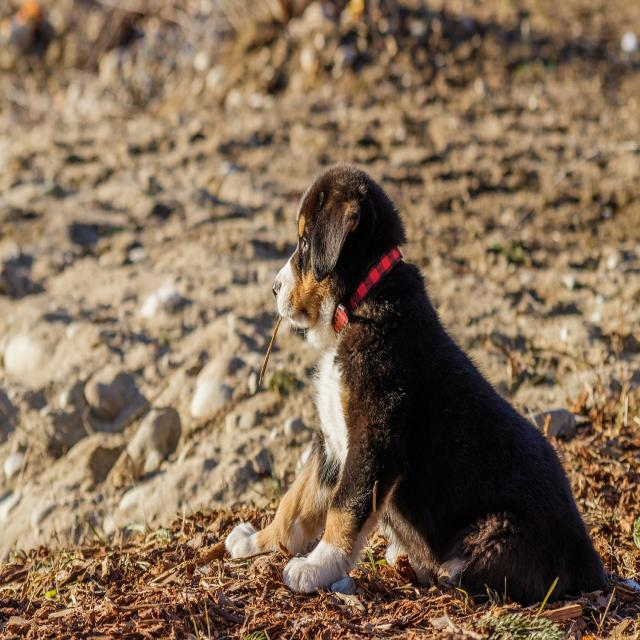dog: (225, 162, 608, 592)
